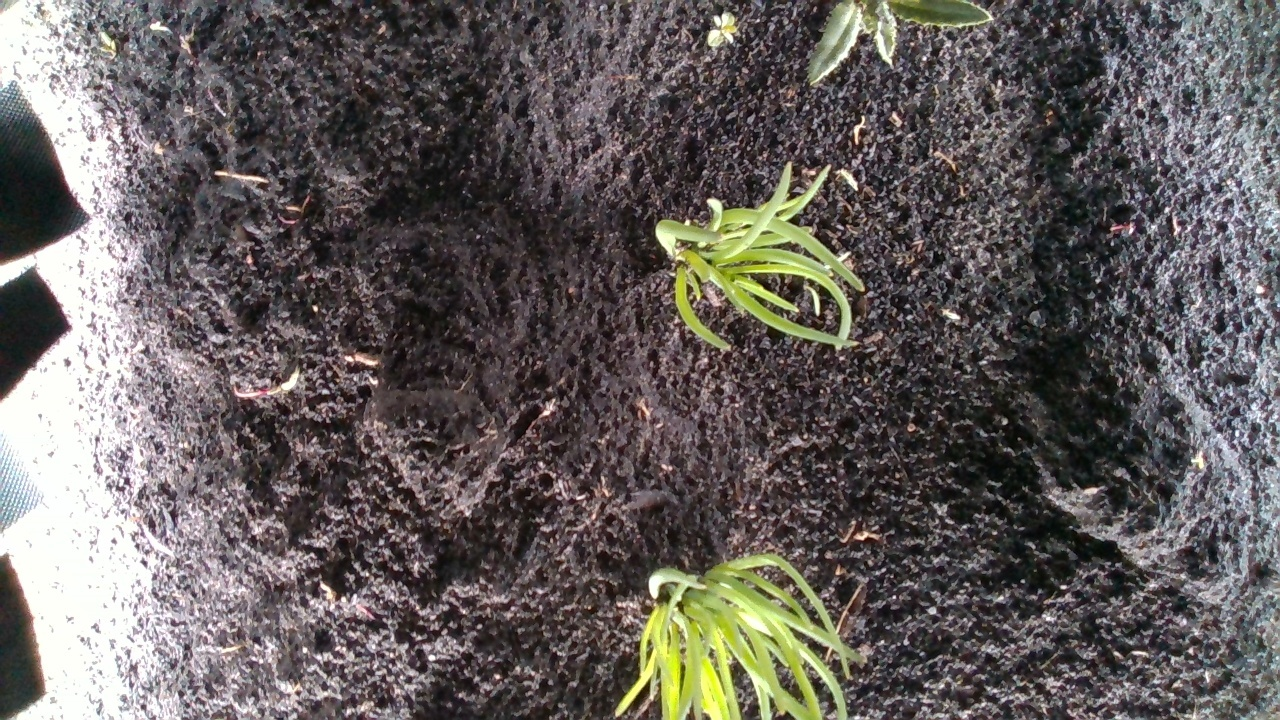weed: (705, 10, 737, 51)
